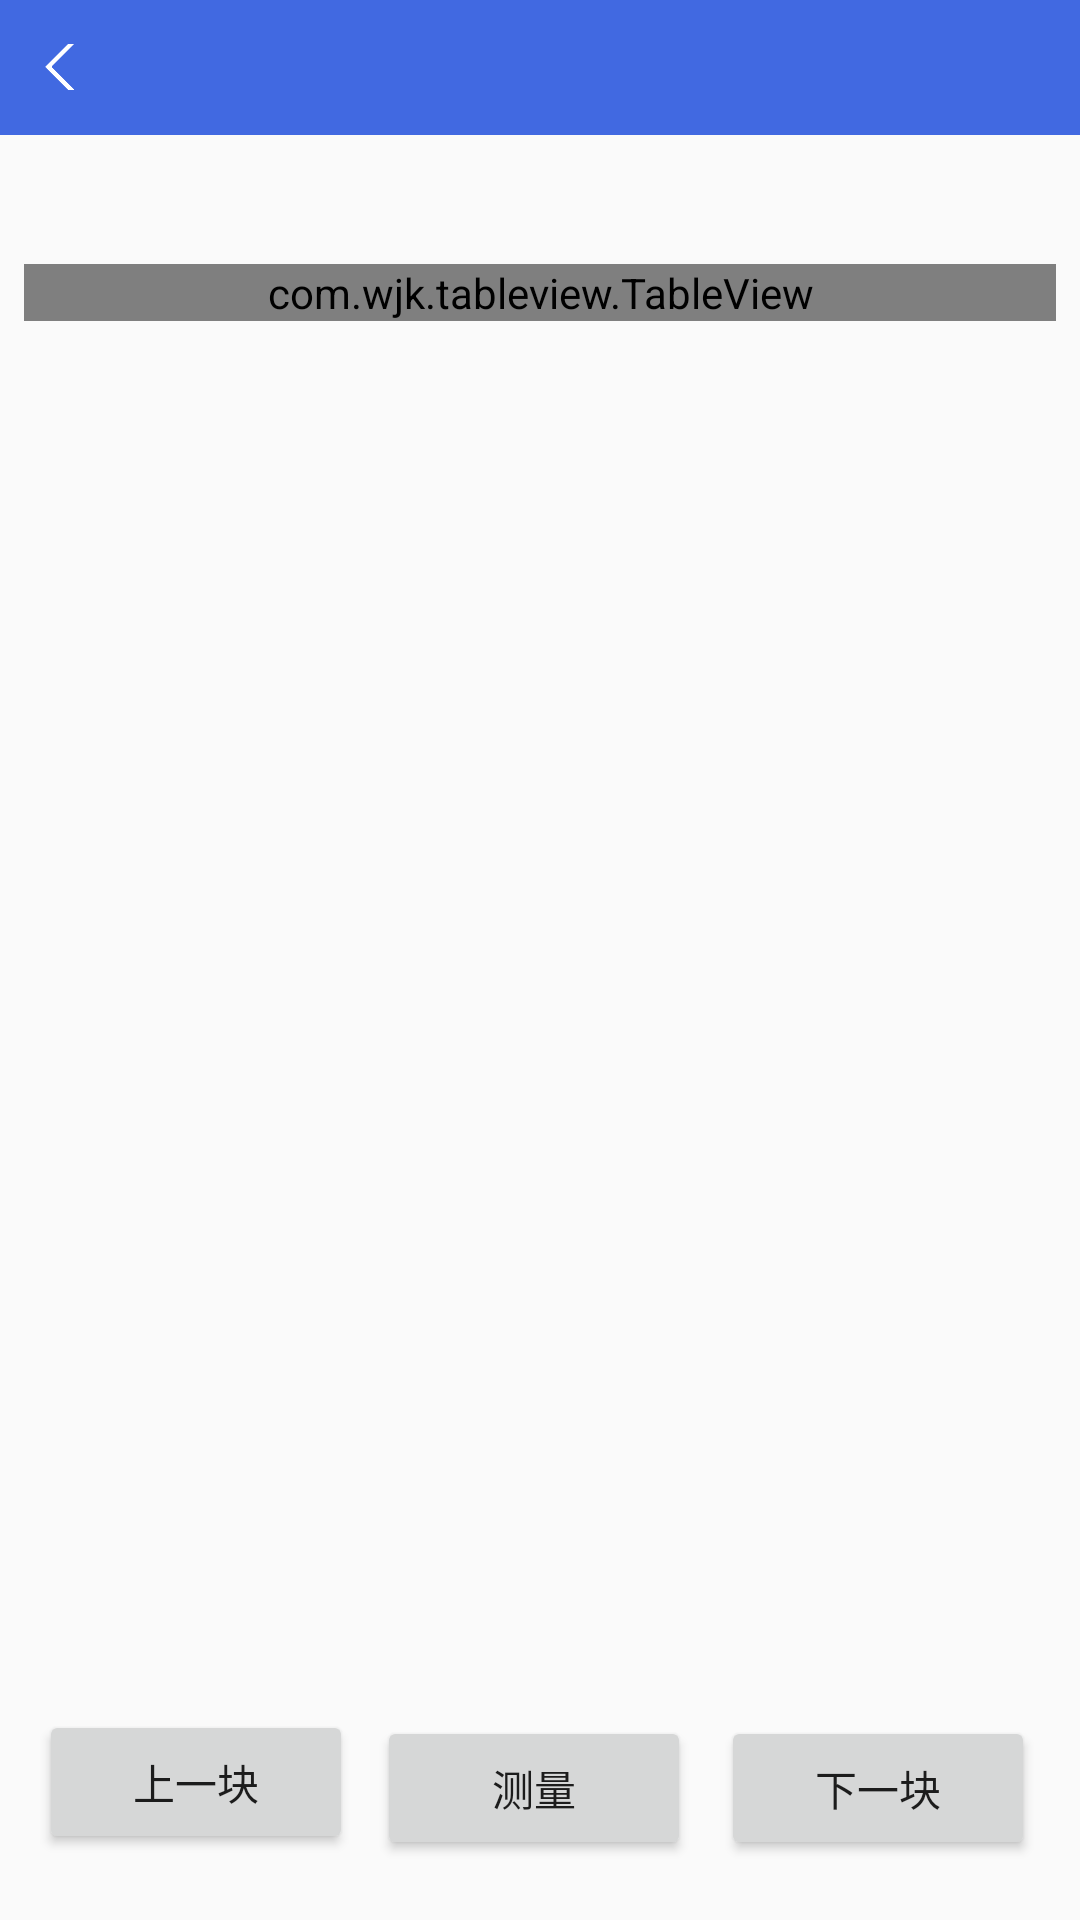

Screen size 1080 × 1920. Icon name, then its box in pixels as (x1, y1, x2, y2):
title back: (45, 44, 74, 90)
